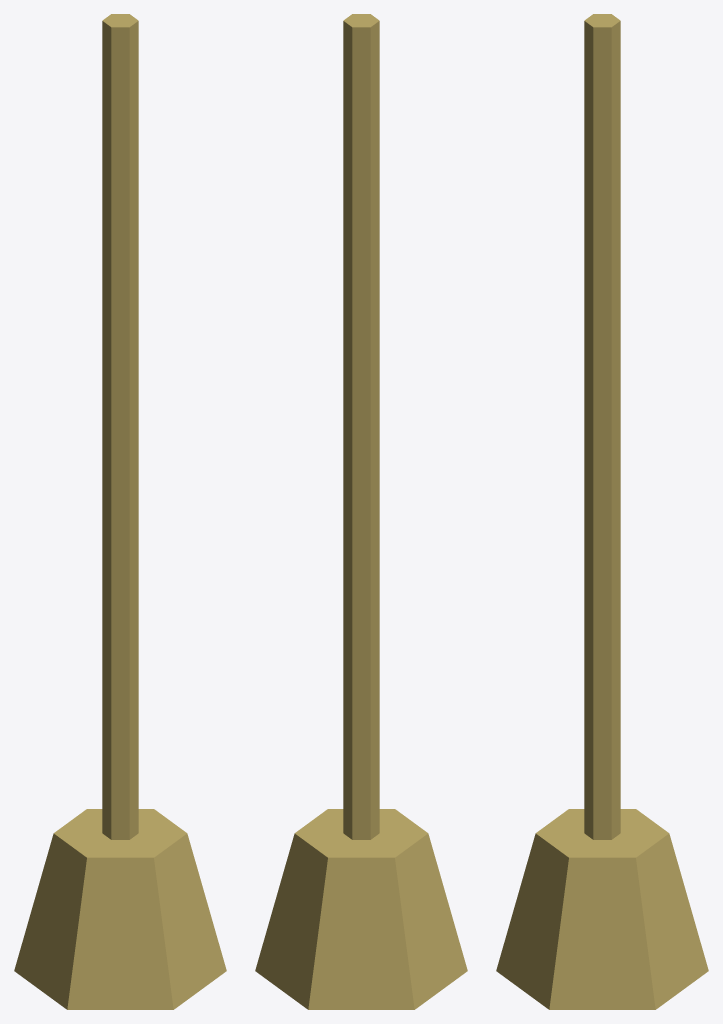
The model's file is EstandarteEscuela.glb.
The picture shows the model from 3 angles, left to right: view 1: azimuth 30°, elevation 25°; view 2: azimuth 150°, elevation 25°; view 3: azimuth 270°, elevation 25°; orthographic projection.
Parts seen in each view (by area): view 1: Base_Concreto, Poste; view 2: Base_Concreto, Poste; view 3: Base_Concreto, Poste.
Part boxes in pixels (left/top/right/bottom): Base_Concreto: left=14, top=809, right=226, bottom=1009; Poste: left=102, top=14, right=138, bottom=839; Base_Concreto: left=255, top=809, right=467, bottom=1009; Poste: left=343, top=14, right=379, bottom=839; Base_Concreto: left=496, top=809, right=708, bottom=1009; Poste: left=584, top=14, right=620, bottom=839.
Bounding box in the file's own units: 0.6062 × 3.45 × 0.7.
